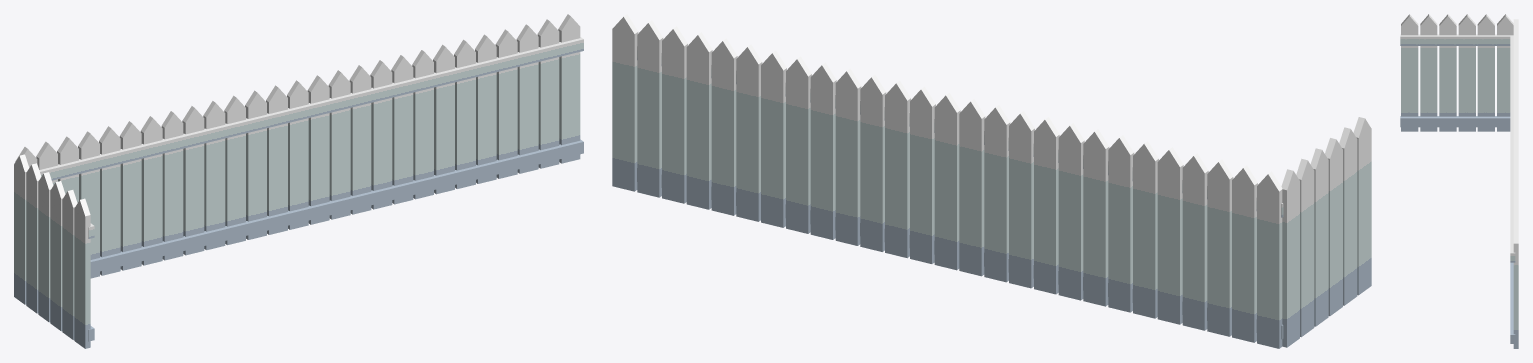
Rendered from valla_lateral.fbx.
3 renders of one model, left to right at view 1: azimuth 30°, elevation 25°; view 2: azimuth 150°, elevation 25°; view 3: azimuth 270°, elevation 25°, orthographic. The views are drawn at different scales.
Parts seen in each view (by area): view 1: valla_lateral, Cube.008; view 2: valla_lateral, Cube.008; view 3: Cube.008, valla_lateral.
Boxes of the visible parts, x1=… form: valla_lateral: x1=15, y1=14, x2=583, y2=278; Cube.008: x1=14, y1=154, x2=94, y2=348; valla_lateral: x1=612, y1=14, x2=1282, y2=348; Cube.008: x1=1281, y1=117, x2=1371, y2=347; Cube.008: x1=1400, y1=14, x2=1513, y2=131; valla_lateral: x1=1510, y1=19, x2=1518, y2=348.
Bounding box in the file's own units: 1475 × 361 × 334.
